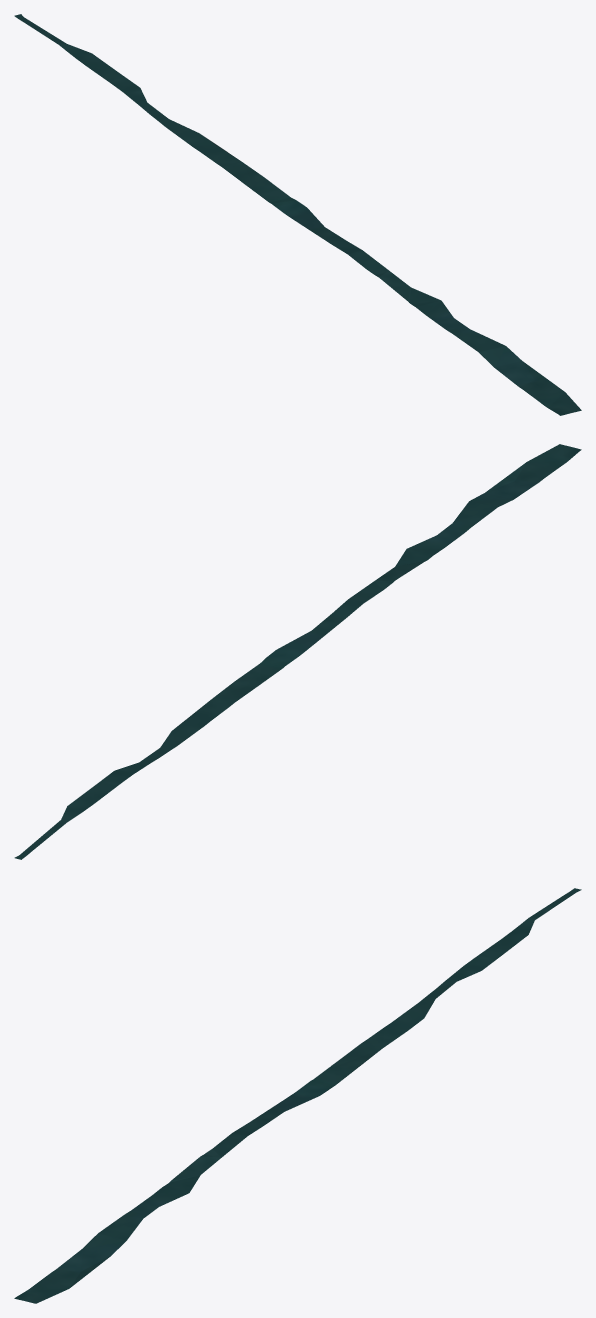
The picture shows the model from 3 angles, top to bottom: view 1: azimuth 30°, elevation 25°; view 2: azimuth 150°, elevation 25°; view 3: azimuth 330°, elevation 25°; orthographic projection. The views are drawn at different scales.
Bounding box in the file's own units: 3.24 × 0.8865 × 104.
Materials: 1 (1 with a texture image).
